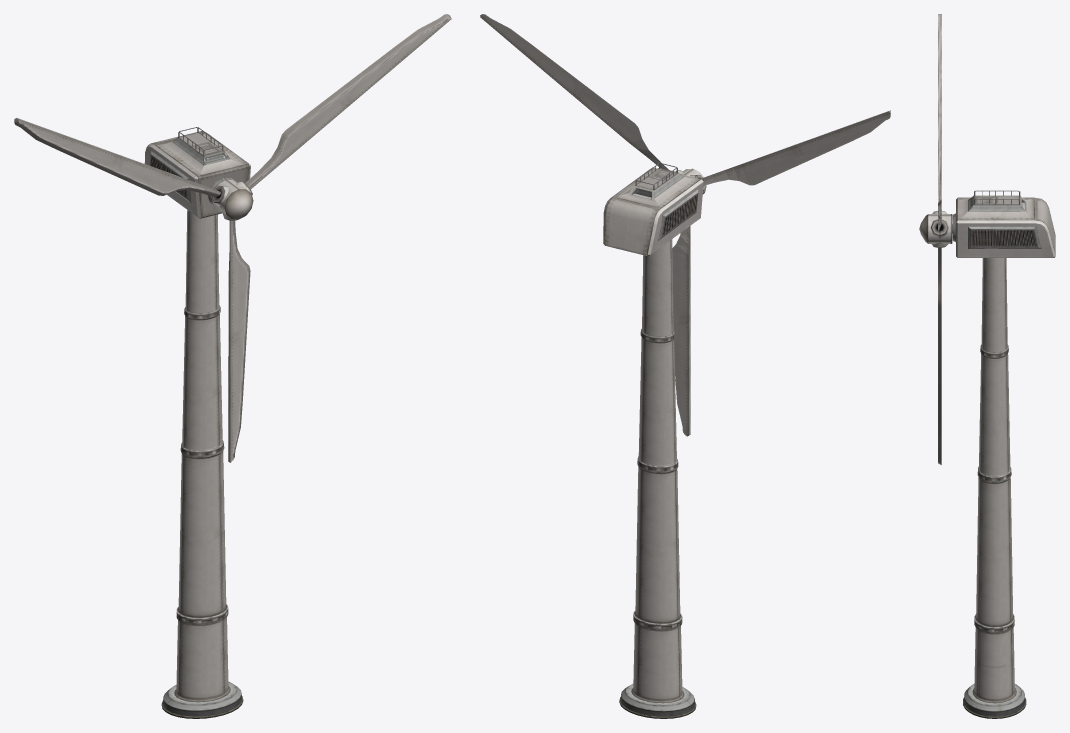
Rendered from windturbine.obj.
The picture shows the model from 3 angles, left to right: view 1: azimuth 30°, elevation 25°; view 2: azimuth 150°, elevation 25°; view 3: azimuth 270°, elevation 25°; orthographic projection. The views are drawn at different scales.
Parts seen in each view (by area): view 1: Turbine_Main, Turbine_Fan; view 2: Turbine_Main, Turbine_Fan; view 3: Turbine_Main, Turbine_Fan.
Part boxes in pixels (left/top/right/bottom): Turbine_Main: left=144, top=127, right=250, bottom=718; Turbine_Fan: left=14, top=14, right=451, bottom=462; Turbine_Main: left=603, top=163, right=703, bottom=718; Turbine_Fan: left=480, top=14, right=890, bottom=436; Turbine_Main: left=952, top=190, right=1055, bottom=718; Turbine_Fan: left=919, top=14, right=952, bottom=465.
Bounding box in the file's own units: 222 × 321 × 66.96.
